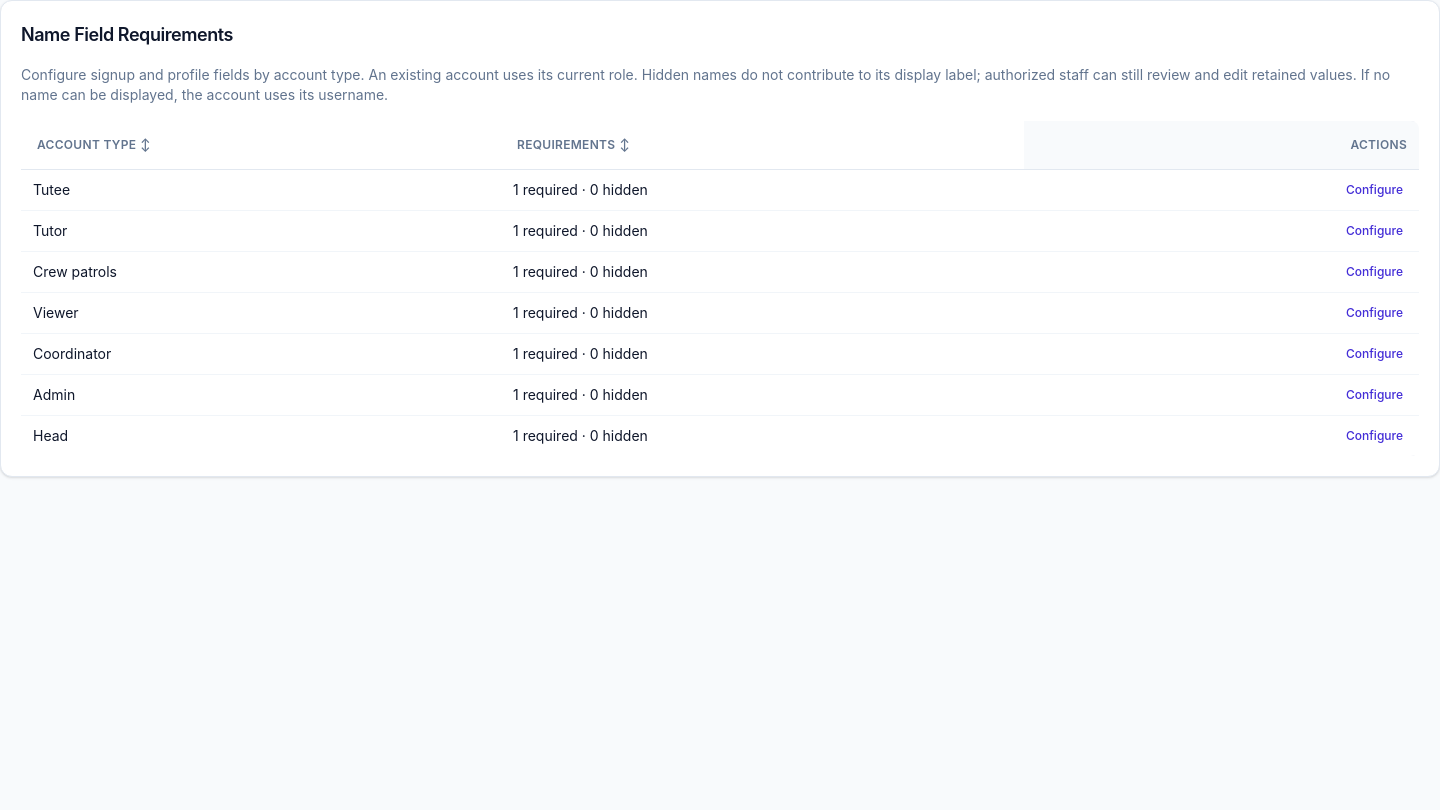
does not replay accepted name-policy saves after synchronization fails
Click the button "Configure" in the row of "Tutee" at coordinates (1374, 190), box [1342,178,1407,202]
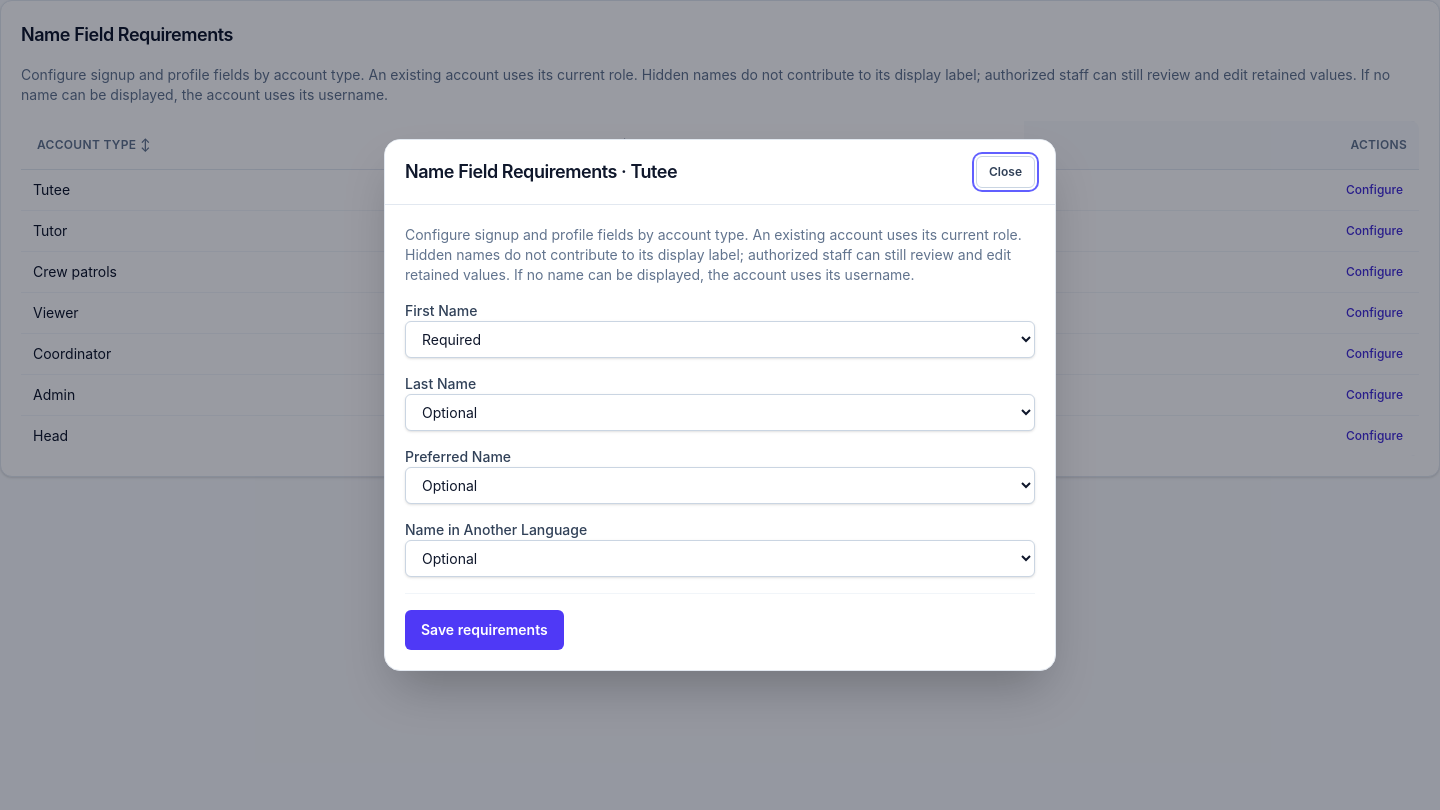
Submit the form, box [405,225,1035,650]
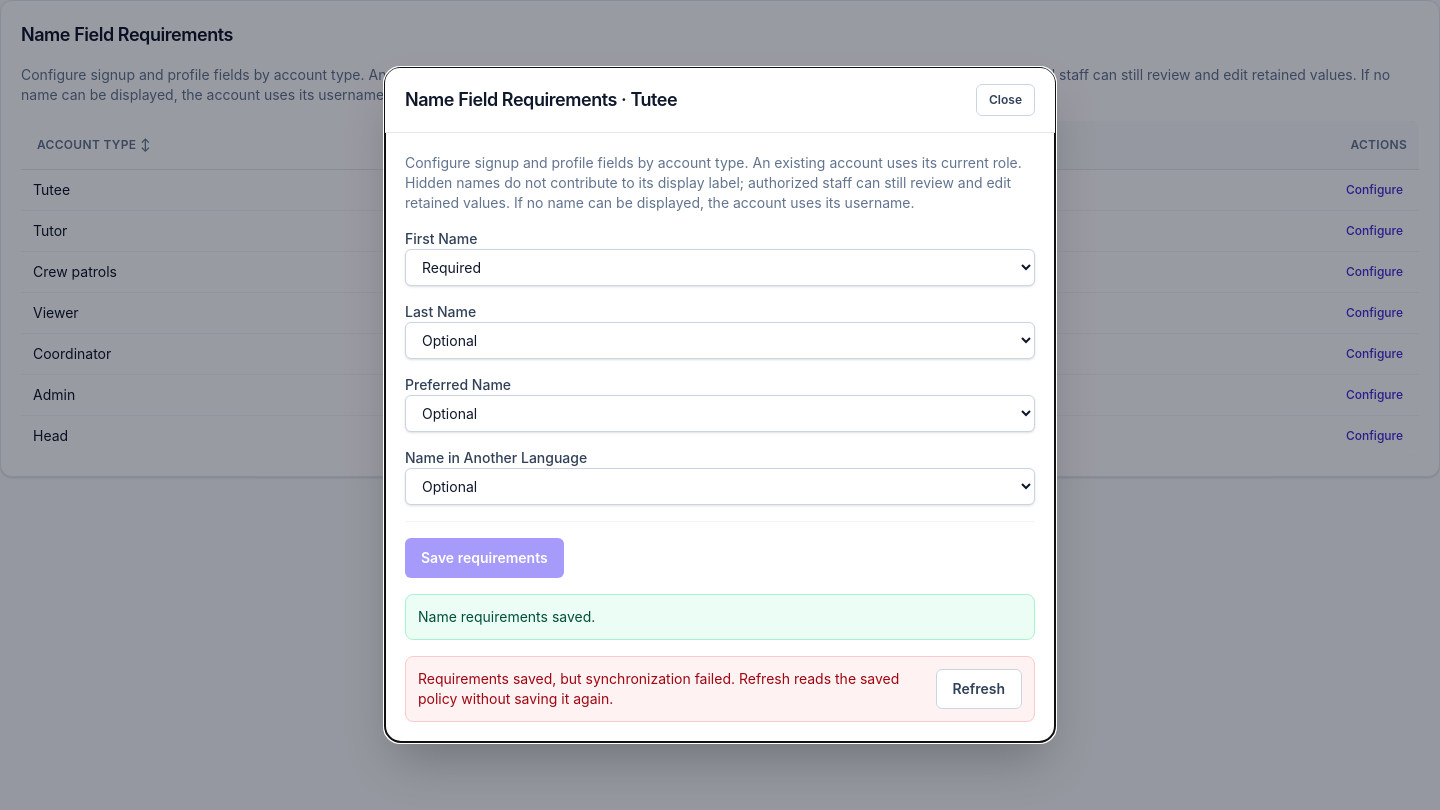
Expected: the text "Requirements saved, but synchronization failed. Refresh reads the saved policy without saving it again." is shown, [418,670,899,707]
Submit the form, box [405,153,1035,722]
Click the button "Refresh" at coordinates (979, 689), box [936,669,1022,709]
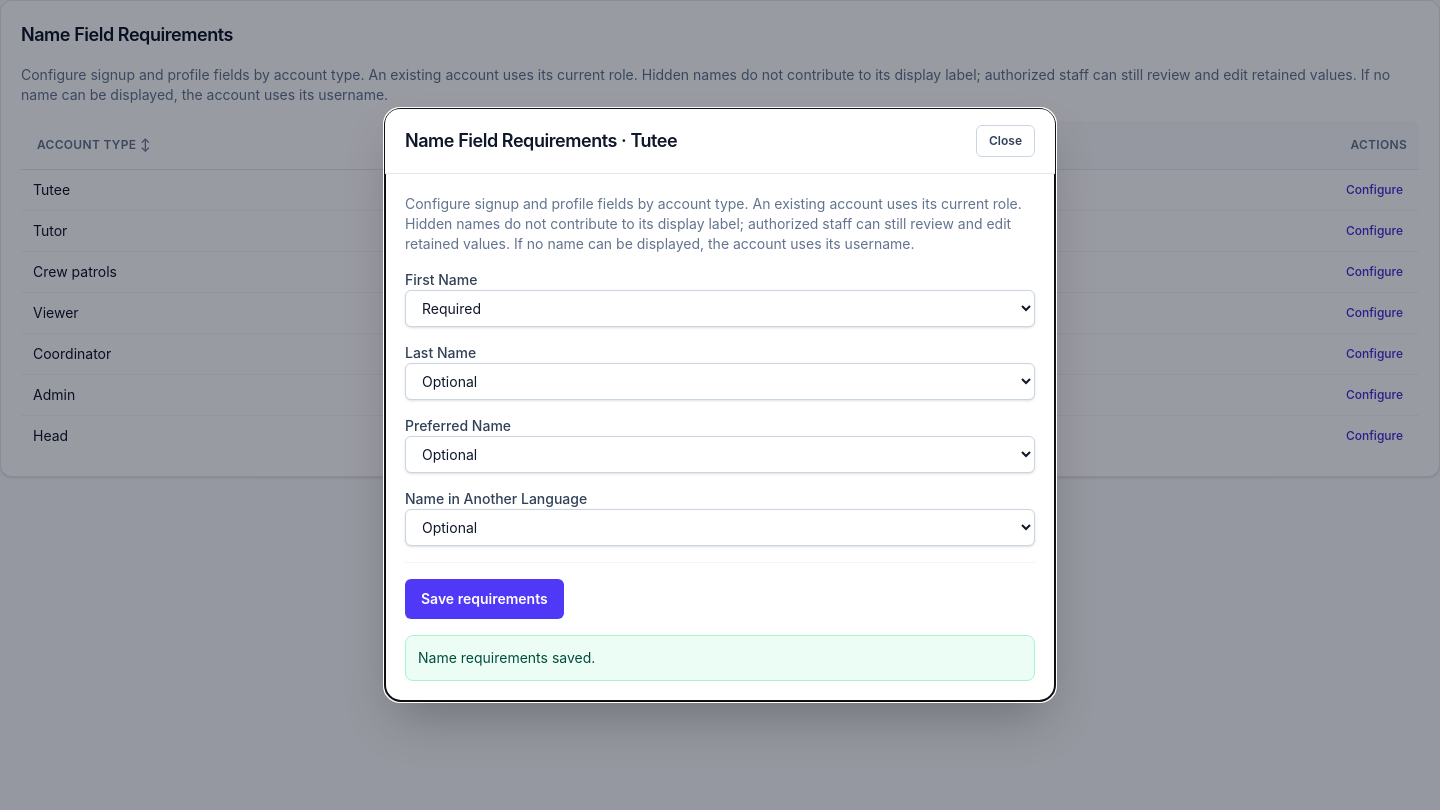
Expected: the text "Requirements saved, but synchronization failed. Refresh reads the saved policy without saving it again." is gone
